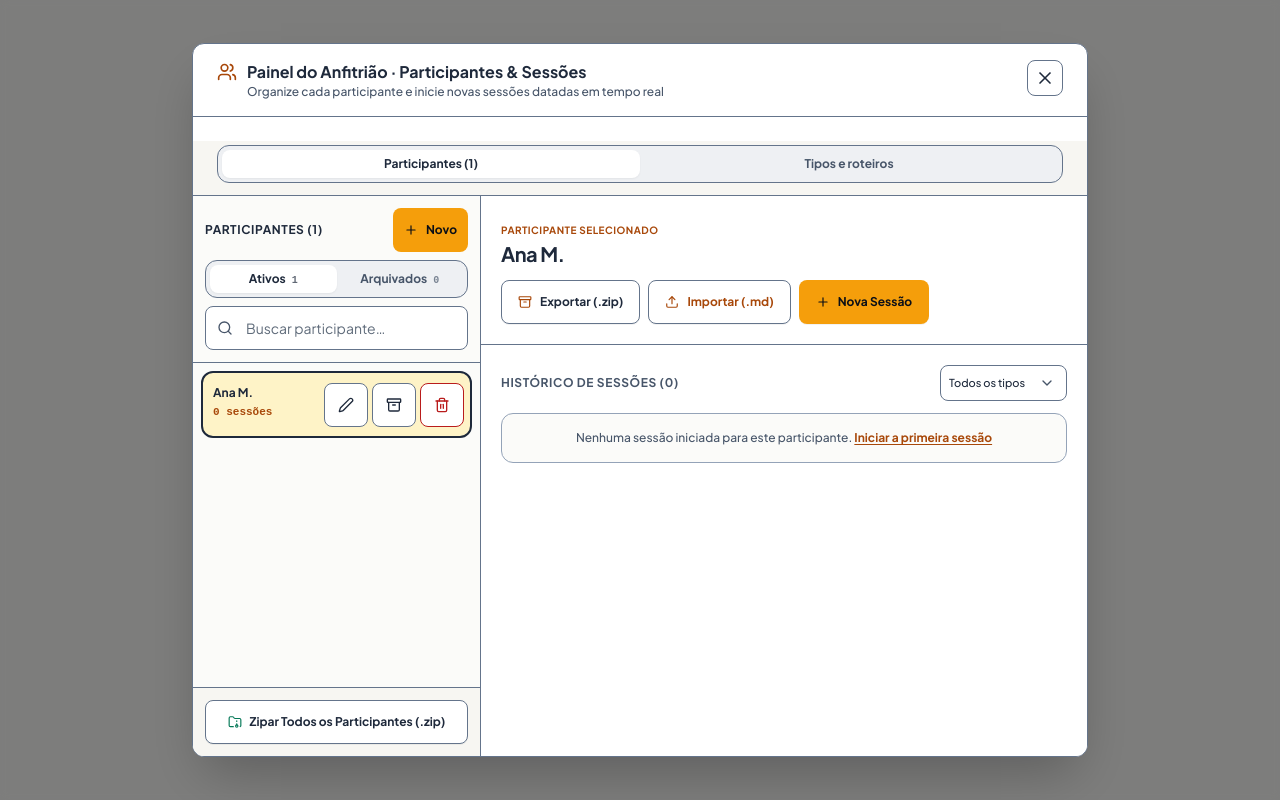
Test: AdminClientManager empty states › client without sessions links straight to the picker
Click the button "Iniciar a primeira sessão" at (923, 438), box [854,430,992,446]
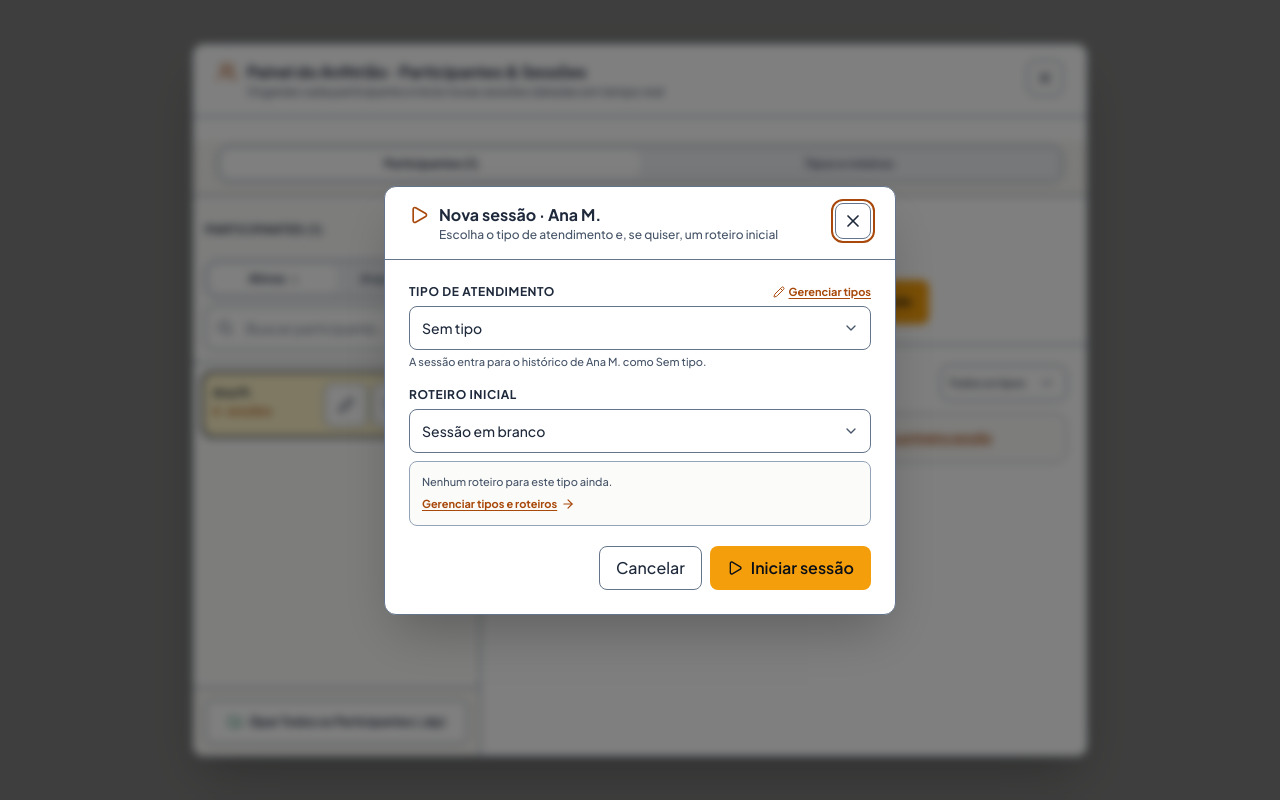
Now the heading "Nova sessão · Ana M." is shown, box [439,204,601,224]
